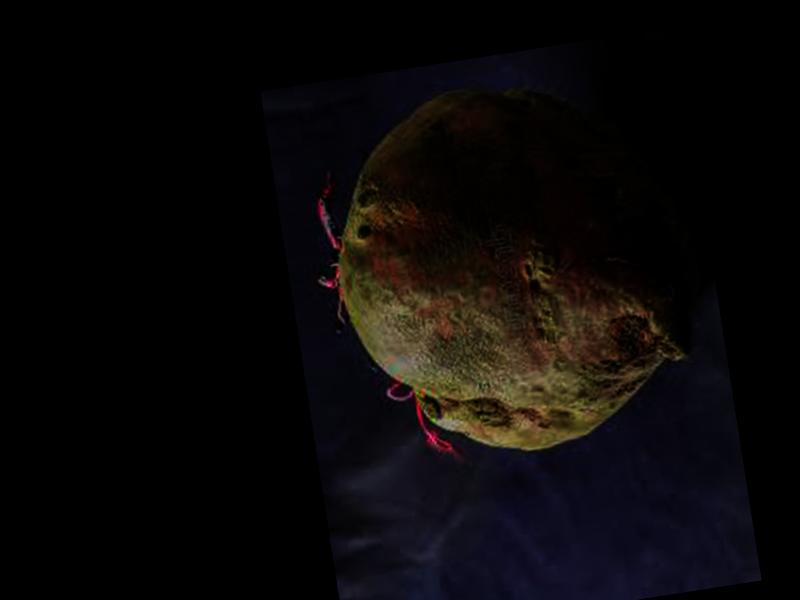Beet: (296, 60, 720, 478)
